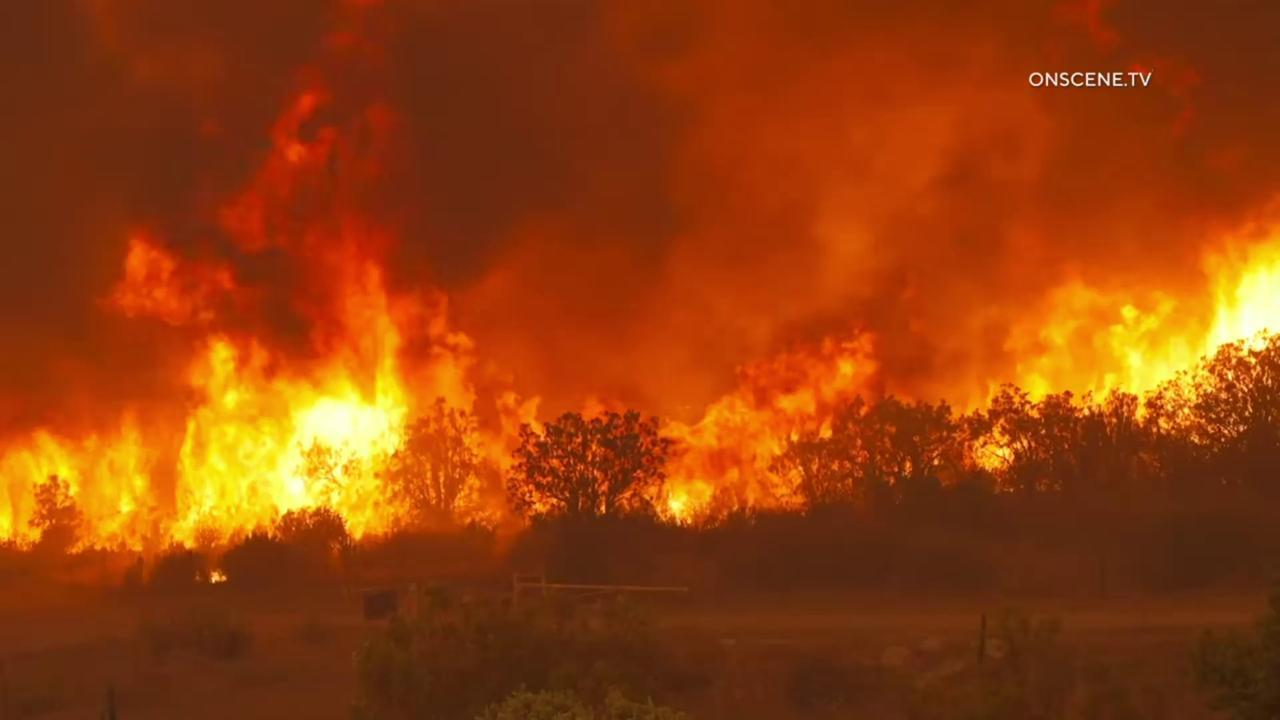fire: (0, 59, 568, 557), (962, 218, 1280, 498), (608, 325, 888, 527)
smoke: (0, 0, 1280, 720)
